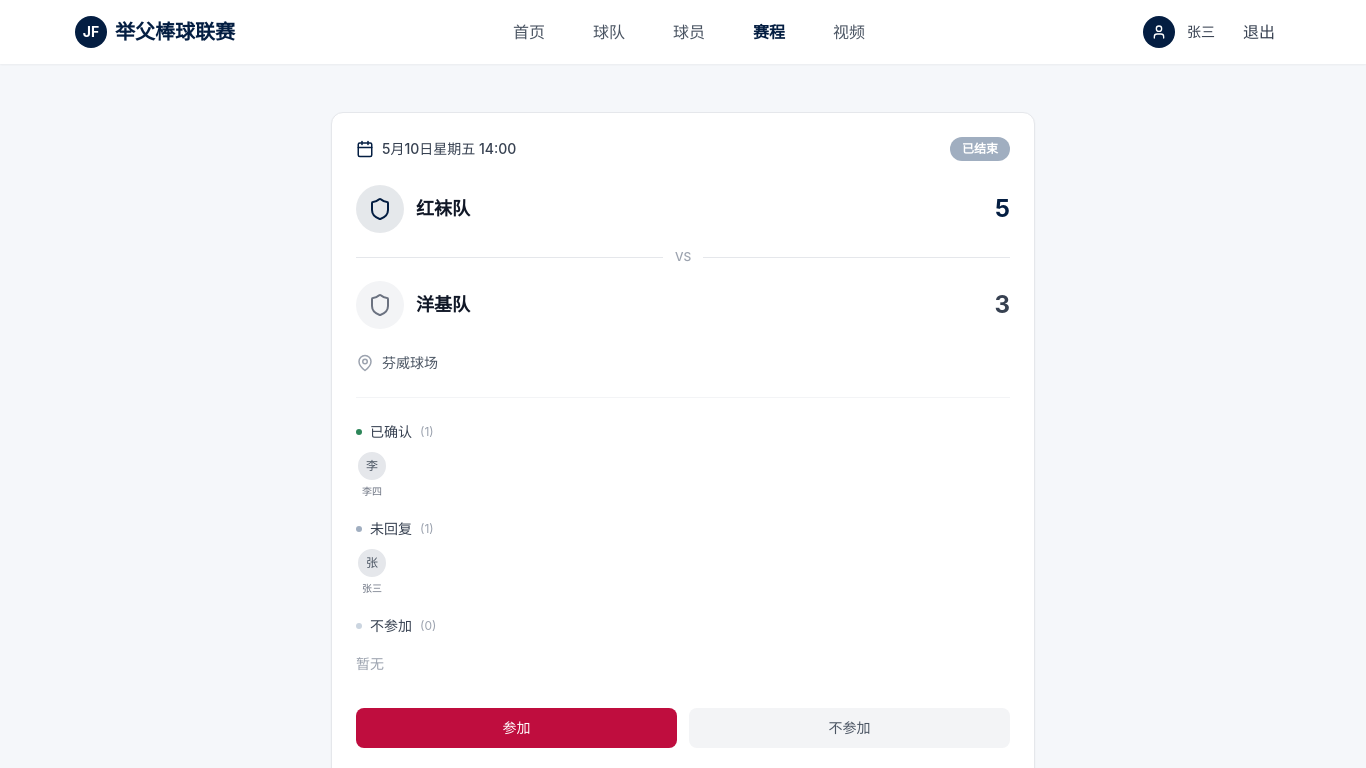
Test: GameDetailPage › shows error alert when updateAttendance fails
Click the button with test id "confirm-button" at (516, 728), box [356, 708, 677, 748]
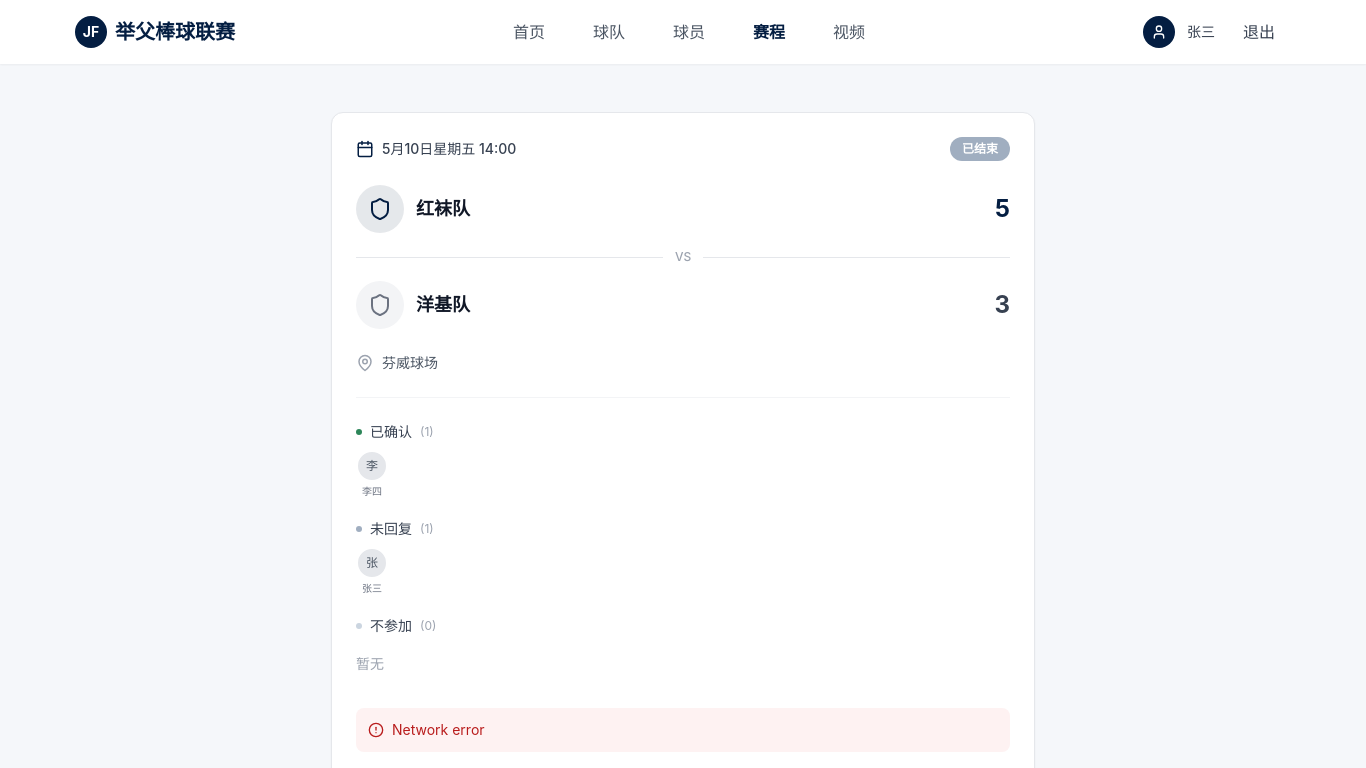
Expected: the text "Network error" is shown, [392, 720, 485, 740]
